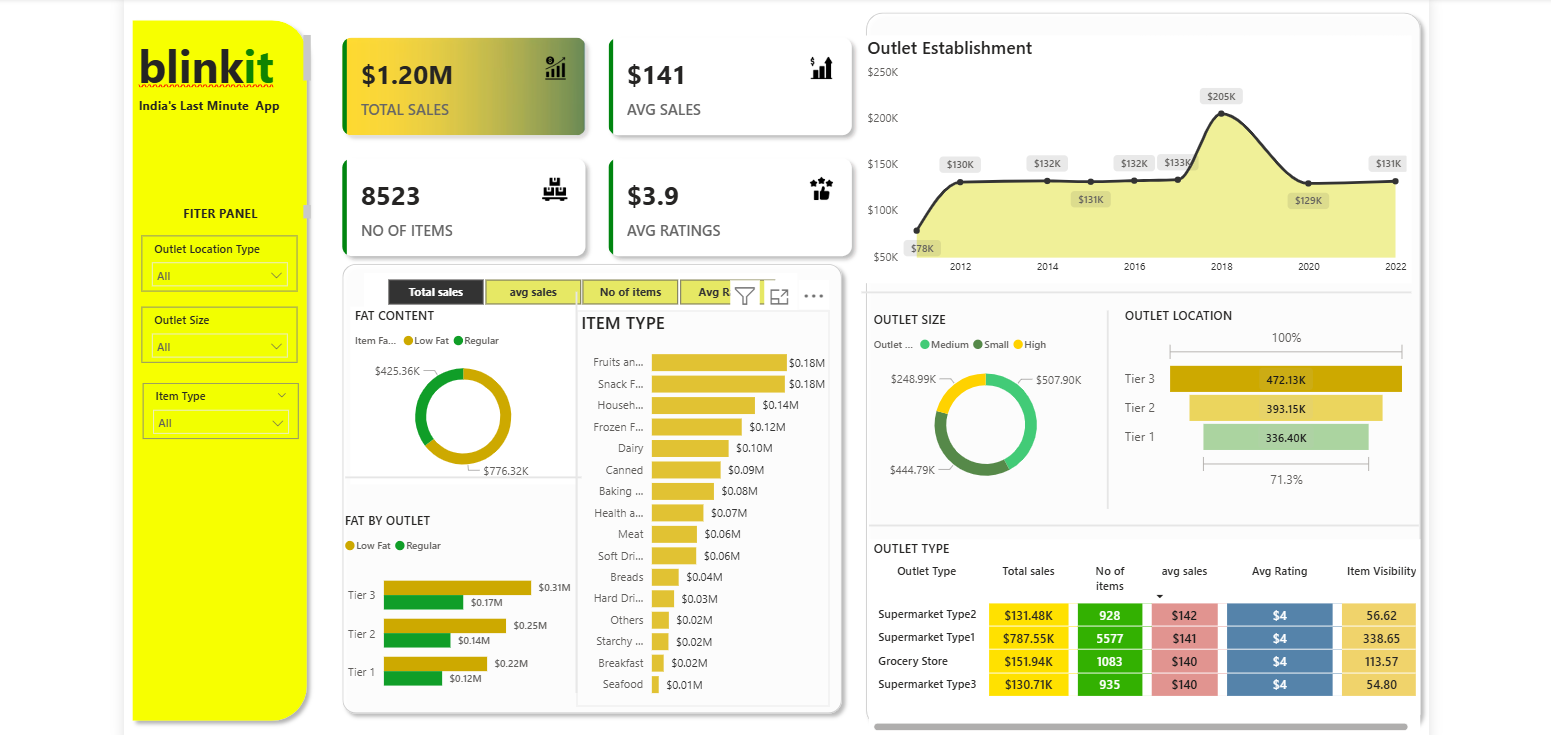

The page's visual inventory and layout, read from the dashboard file:
{"tool":"powerbi","page":{"name":"Page 1","canvas":[1400,800],"ordinal":0},"visuals":[{"type":"shape","box":[0,14.7,205.1,769.4],"z":0},{"type":"textbox","box":[10.7,34.9,194.4,65.7],"z":1000},{"type":"textbox","box":[10.7,100.5,176.9,28.2],"z":2000},{"type":"cardVisual","fields":{"Data":["BlinkIT Grocery Data.Total sales","BlinkIT Grocery Data.avg sales","BlinkIT Grocery Data.No of items","BlinkIT Grocery Data.Avg Rating"]},"box":[217.2,25.5,581.8,269.4],"z":3000},{"type":"shape","box":[225.2,276.1,553.6,500],"z":4000},{"type":"donutChart","title":"FAT CONTENT","fields":{"Y":["BlinkIT Grocery Data.Total sales"],"Category":["BlinkIT Grocery Data.Item Fat Content"]},"box":[242.6,331.1,242.6,190.3],"z":6000},{"type":"slicer","fields":{"Values":["Matrix.Matrix"]},"box":[257.4,294.9,465.1,40.2],"z":7000},{"type":"clusteredBarChart","title":"FAT BY OUTLET","fields":{"Y":["BlinkIT Grocery Data.Total sales"],"Category":["BlinkIT Grocery Data.Outlet Location Type"],"Series":["BlinkIT Grocery Data.Item Fat Content"]},"box":[231.9,550.9,253.4,209.1],"z":8000},{"type":"shape","box":[811,730.6,202.4,14.7],"z":9000},{"type":"shape","box":[237.3,506.7,253.4,14.7],"z":10000},{"type":"shape","box":[469.2,315,32.2,430.3],"z":11000},{"type":"barChart","title":"ITEM TYPE","fields":{"Y":["BlinkIT Grocery Data.Total sales"],"Category":["BlinkIT Grocery Data.Item Type"]},"box":[485.3,335.1,272.1,424.9],"z":12000},{"type":"shape","box":[786.9,6.7,612.6,784.2],"z":13000},{"type":"lineChart","title":" Outlet Establishment ","fields":{"Y":["BlinkIT Grocery Data.Total sales"],"Category":["BlinkIT Grocery Data.Outlet Establishment Year"]},"box":[792.2,40.2,588.5,265.4],"z":14000},{"type":"shape","box":[790.9,305.6,589.8,20.1],"z":15000},{"type":"donutChart","title":"OUTLET SIZE","fields":{"Y":["BlinkIT Grocery Data.Total sales"],"Category":["BlinkIT Grocery Data.Outlet Size"]},"box":[798.9,335.1,250.7,199.7],"z":16000},{"type":"shape","box":[1042.9,335.1,24.1,213.1],"z":17000},{"type":"funnel","title":"OUTLET LOCATION","fields":{"Y":["Sum(BlinkIT Grocery Data.Sales)"],"Category":["BlinkIT Grocery Data.Outlet Location Type"]},"box":[1068.4,331.1,312.3,199.7],"z":17001},{"type":"shape","box":[798.9,560.3,589.8,10.7],"z":17002},{"type":"pivotTable","title":"OUTLET TYPE","fields":{"Rows":["BlinkIT Grocery Data.Outlet Type"],"Values":["BlinkIT Grocery Data.Total sales","BlinkIT Grocery Data.No of items","BlinkIT Grocery Data.avg sales","BlinkIT Grocery Data.Avg Rating","Sum(BlinkIT Grocery Data.Item Visibility)"]},"box":[798.9,580.4,591.2,210.5],"z":17003},{"type":"slicer","fields":{"Values":["BlinkIT Grocery Data.Outlet Location Type"]},"box":[18.8,254.7,167.6,60.3],"z":17004},{"type":"slicer","fields":{"Values":["BlinkIT Grocery Data.Outlet Size"]},"box":[18.8,331.1,167.6,60.3],"z":17005},{"type":"slicer","fields":{"Values":["BlinkIT Grocery Data.Item Type"]},"box":[20.1,412.9,167.6,60.3],"z":17006},{"type":"textbox","box":[10.7,217.2,194.4,24.1],"z":17007}]}

Visuals, with their boxes on the page's 1400x800 design canvas (x1, y1, x2, y2). These are canvas units, not pixel positions in the 1551x735 screenshot, which may show the page scaled, cropped or inside an application window:
shape: locate(0, 15, 205, 784)
textbox: locate(11, 35, 205, 101)
textbox: locate(11, 100, 188, 129)
cardVisual - BlinkIT Grocery Data.Total sales x BlinkIT Grocery Data.avg sales: locate(217, 26, 799, 295)
shape: locate(225, 276, 779, 776)
"FAT CONTENT" donutChart: locate(243, 331, 485, 521)
slicer - Matrix.Matrix: locate(257, 295, 722, 335)
"FAT BY OUTLET" clusteredBarChart: locate(232, 551, 485, 760)
shape: locate(811, 731, 1013, 745)
shape: locate(237, 507, 491, 521)
shape: locate(469, 315, 501, 745)
"ITEM TYPE" barChart: locate(485, 335, 757, 760)
shape: locate(787, 7, 1400, 791)
" Outlet Establishment " lineChart: locate(792, 40, 1381, 306)
shape: locate(791, 306, 1381, 326)
"OUTLET SIZE" donutChart: locate(799, 335, 1050, 535)
shape: locate(1043, 335, 1067, 548)
"OUTLET LOCATION" funnel: locate(1068, 331, 1381, 531)
shape: locate(799, 560, 1389, 571)
"OUTLET TYPE" pivotTable: locate(799, 580, 1390, 791)
slicer - BlinkIT Grocery Data.Outlet Location Type: locate(19, 255, 186, 315)
slicer - BlinkIT Grocery Data.Outlet Size: locate(19, 331, 186, 391)
slicer - BlinkIT Grocery Data.Item Type: locate(20, 413, 188, 473)
textbox: locate(11, 217, 205, 241)
